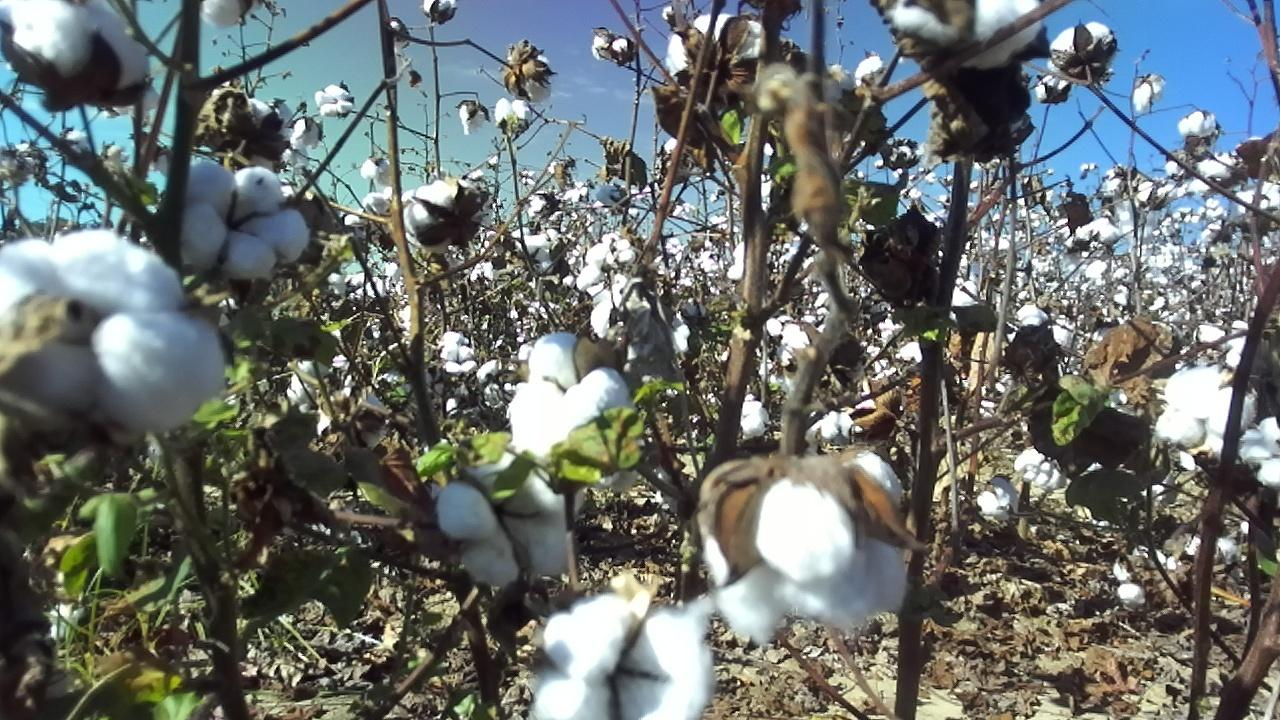cotton_ready: (0, 230, 222, 437), (701, 447, 910, 647), (525, 597, 717, 720), (507, 330, 637, 490), (437, 450, 573, 585), (181, 157, 312, 284), (0, 0, 152, 97), (666, 10, 785, 113), (892, 0, 1044, 69), (1154, 364, 1259, 451), (404, 177, 487, 251), (208, 88, 294, 155), (1112, 542, 1182, 605), (1046, 19, 1117, 81), (573, 237, 637, 287), (591, 270, 632, 337), (505, 50, 555, 103), (342, 187, 399, 230), (1014, 449, 1069, 490), (770, 314, 812, 367), (806, 409, 865, 446), (1237, 180, 1280, 230), (977, 478, 1021, 520), (200, 0, 263, 27), (738, 392, 772, 442), (592, 30, 636, 64), (1184, 532, 1239, 559), (668, 315, 692, 359)
